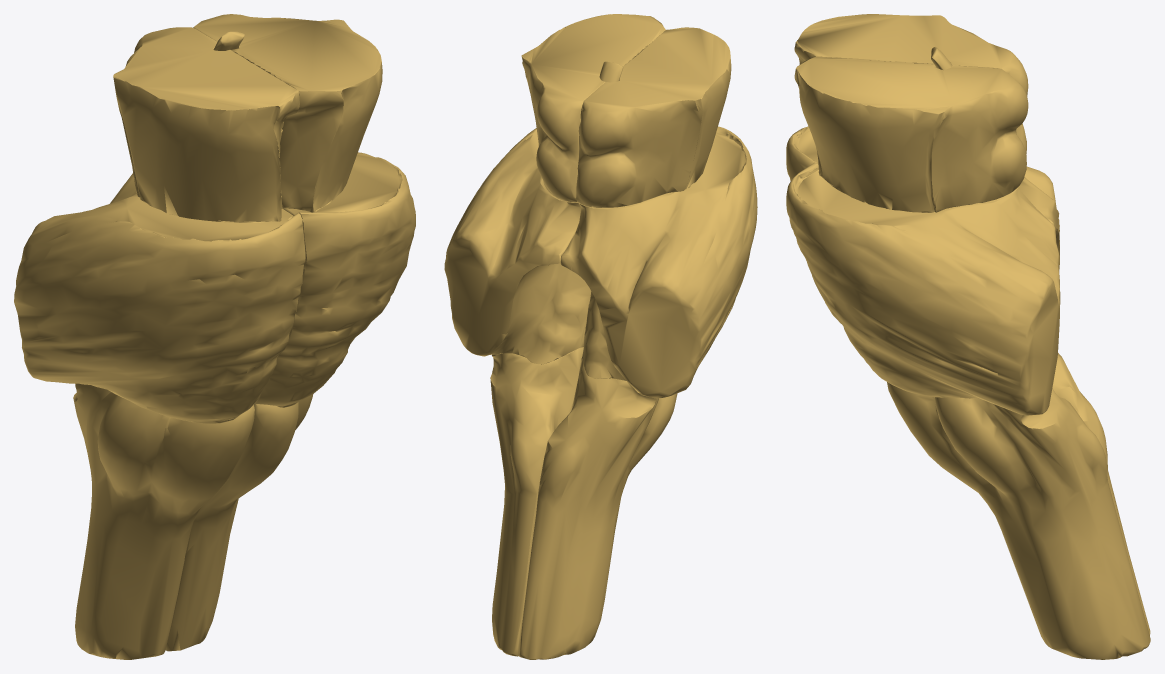
Rendered from brainstem.glb.
The picture shows the model from 3 angles, left to right: view 1: azimuth 30°, elevation 25°; view 2: azimuth 150°, elevation 25°; view 3: azimuth 270°, elevation 25°; orthographic projection. The views are drawn at different scales.
Parts seen in each view (by area): view 1: brainstem; view 2: brainstem; view 3: brainstem.
Part boxes in pixels (<box>): brainstem: <box>14,14,415,659</box>; brainstem: <box>444,14,757,659</box>; brainstem: <box>786,14,1150,659</box>.
Size of the model in its own units: 0.0422 by 0.0818 by 0.0457.
